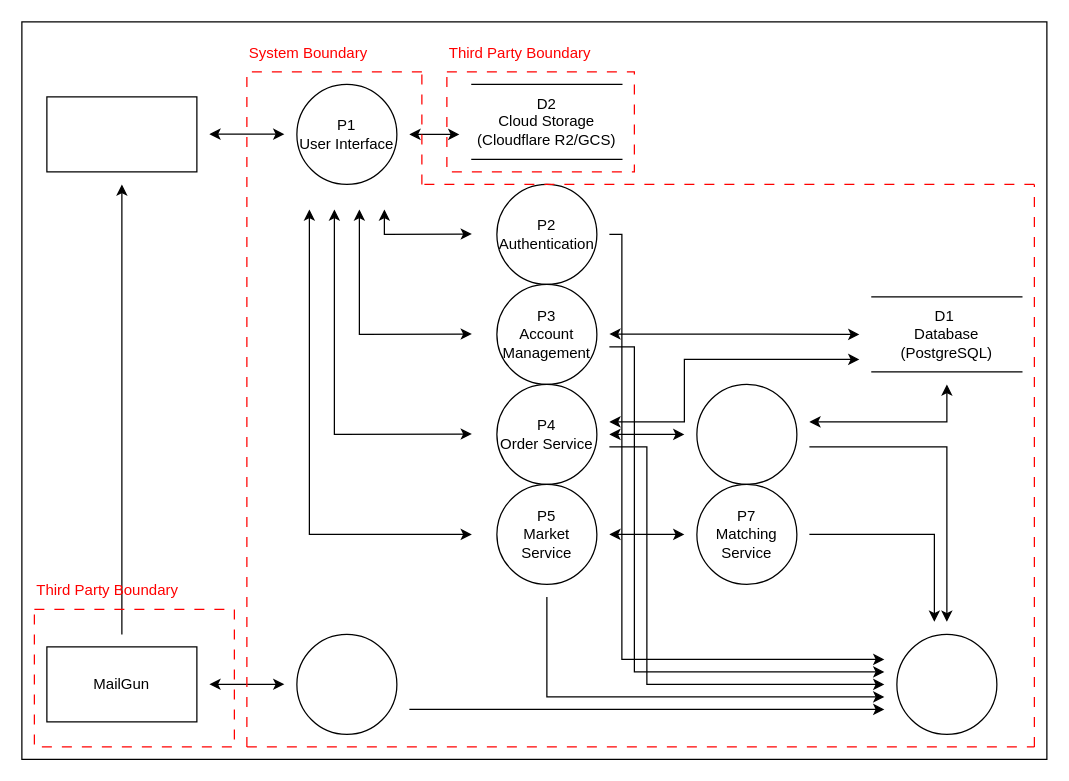
Image size: 1069x781. Some labels were removed from this diagram. The shapes that lost their labels are listed below. From the top down, each one's box as (x1, y1, x2, y2) in pixels, then its label:
(46, 96, 197, 172): User
(696, 383, 797, 484): P6 Ledger Service
(296, 633, 397, 734): P8 Notification Service
(896, 633, 997, 734): P9 Distributed Event Streaming
